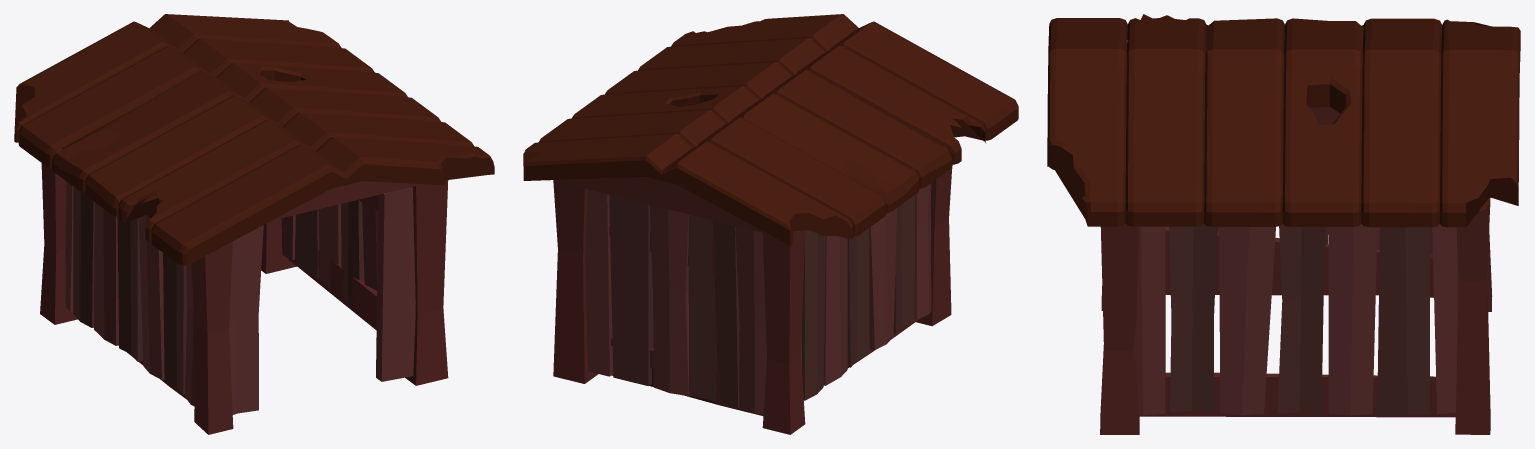
The model's file is Shack.fbx.
3 views of the same model, side by side, from view 1: azimuth 30°, elevation 25°; view 2: azimuth 150°, elevation 25°; view 3: azimuth 270°, elevation 25° (orthographic). The views are drawn at different scales.
Visible parts, largest first — view 1: Roof, Wooden Frame, Structure; view 2: Roof, Wooden Frame, Structure; view 3: Roof, Wooden Frame, Structure.
Boxes of the visible parts, box(x1,y1,x2,y2) form: Roof: box(14, 14, 494, 265); Wooden Frame: box(65, 181, 415, 414); Structure: box(40, 163, 448, 434); Roof: box(523, 14, 1018, 245); Wooden Frame: box(585, 183, 931, 415); Structure: box(553, 76, 952, 434); Roof: box(1047, 14, 1520, 227); Wooden Frame: box(1133, 106, 1487, 417); Structure: box(1100, 40, 1492, 434).
Bounding box in the file's own units: 682 × 515 × 720.
